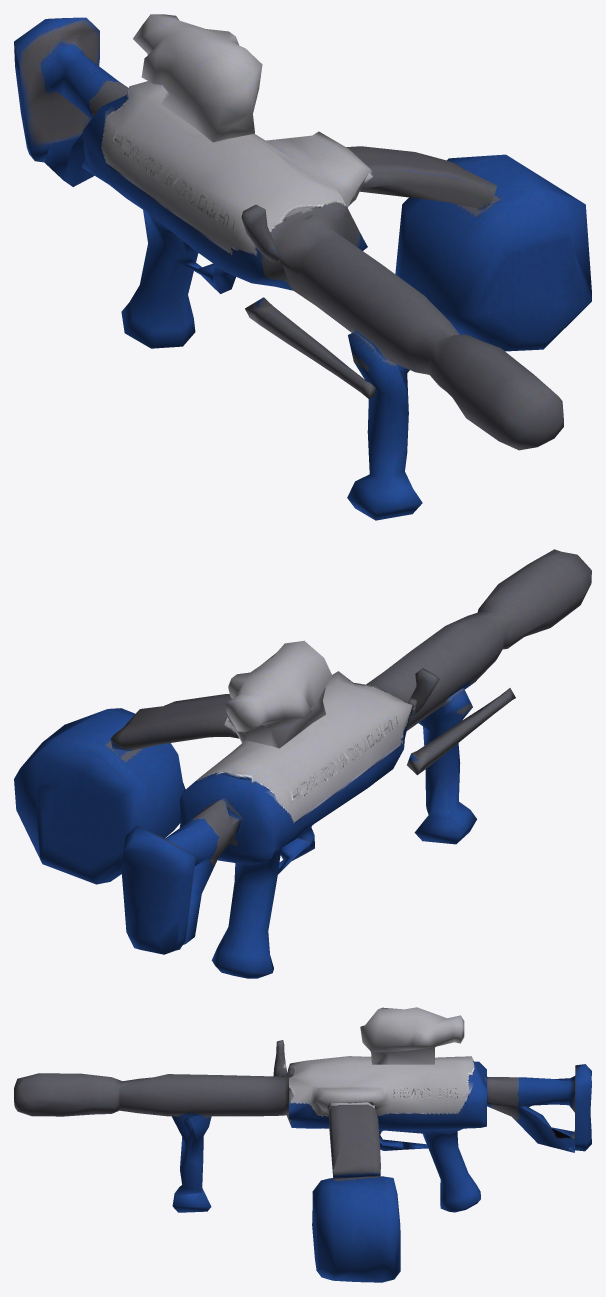
File: heavy-machinegun-model.glb
3 views of the same model, one above another, from view 1: azimuth 30°, elevation 25°; view 2: azimuth 150°, elevation 25°; view 3: azimuth 270°, elevation 25° (orthographic). The views are drawn at different scales.
Parts seen in each view (by area): view 1: tripo_node_1afdfea7-6206-441c-94a2-e082b2e1bc58; view 2: tripo_node_1afdfea7-6206-441c-94a2-e082b2e1bc58; view 3: tripo_node_1afdfea7-6206-441c-94a2-e082b2e1bc58.
Boxes of the visible parts, left/top/right/bottom form: tripo_node_1afdfea7-6206-441c-94a2-e082b2e1bc58: left=14, top=14, right=591, bottom=520; tripo_node_1afdfea7-6206-441c-94a2-e082b2e1bc58: left=14, top=549, right=591, bottom=978; tripo_node_1afdfea7-6206-441c-94a2-e082b2e1bc58: left=14, top=1007, right=591, bottom=1282.
Bounding box in the file's own units: 0.4632 × 0.3811 × 0.9977.
Materials: 1 (1 with a texture image).
